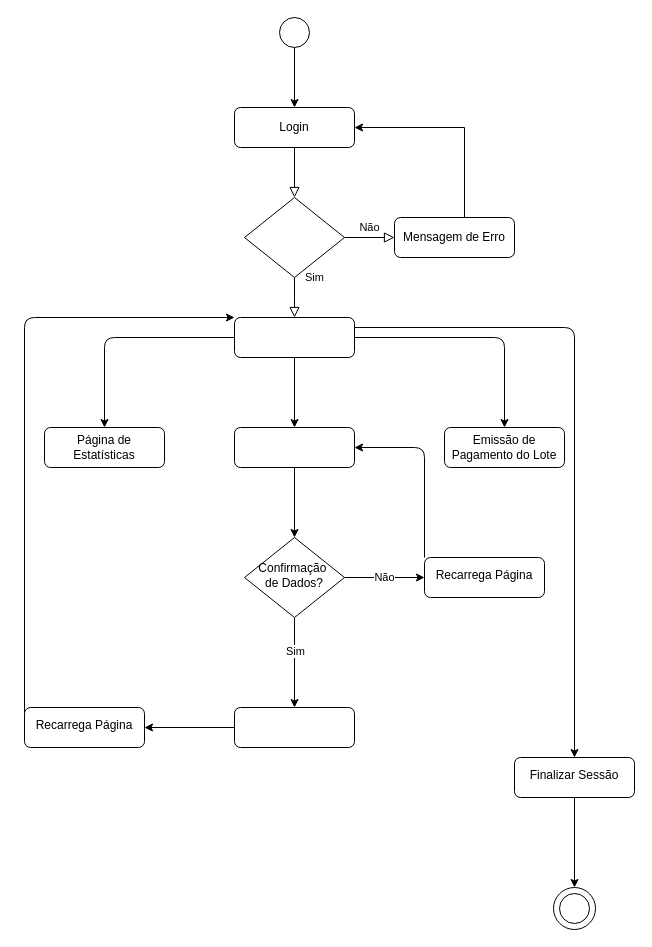
Some shapes in this 652 by 947 pixel diagram are drawn without their labels. Each missing label, with the centre of its shape:
Cadastro Realizado: (294,727)
Dados/tipo Corretos?: (294,237)
Página de Cadastros: (294,447)
Página Inicial(ADM): (294,337)
